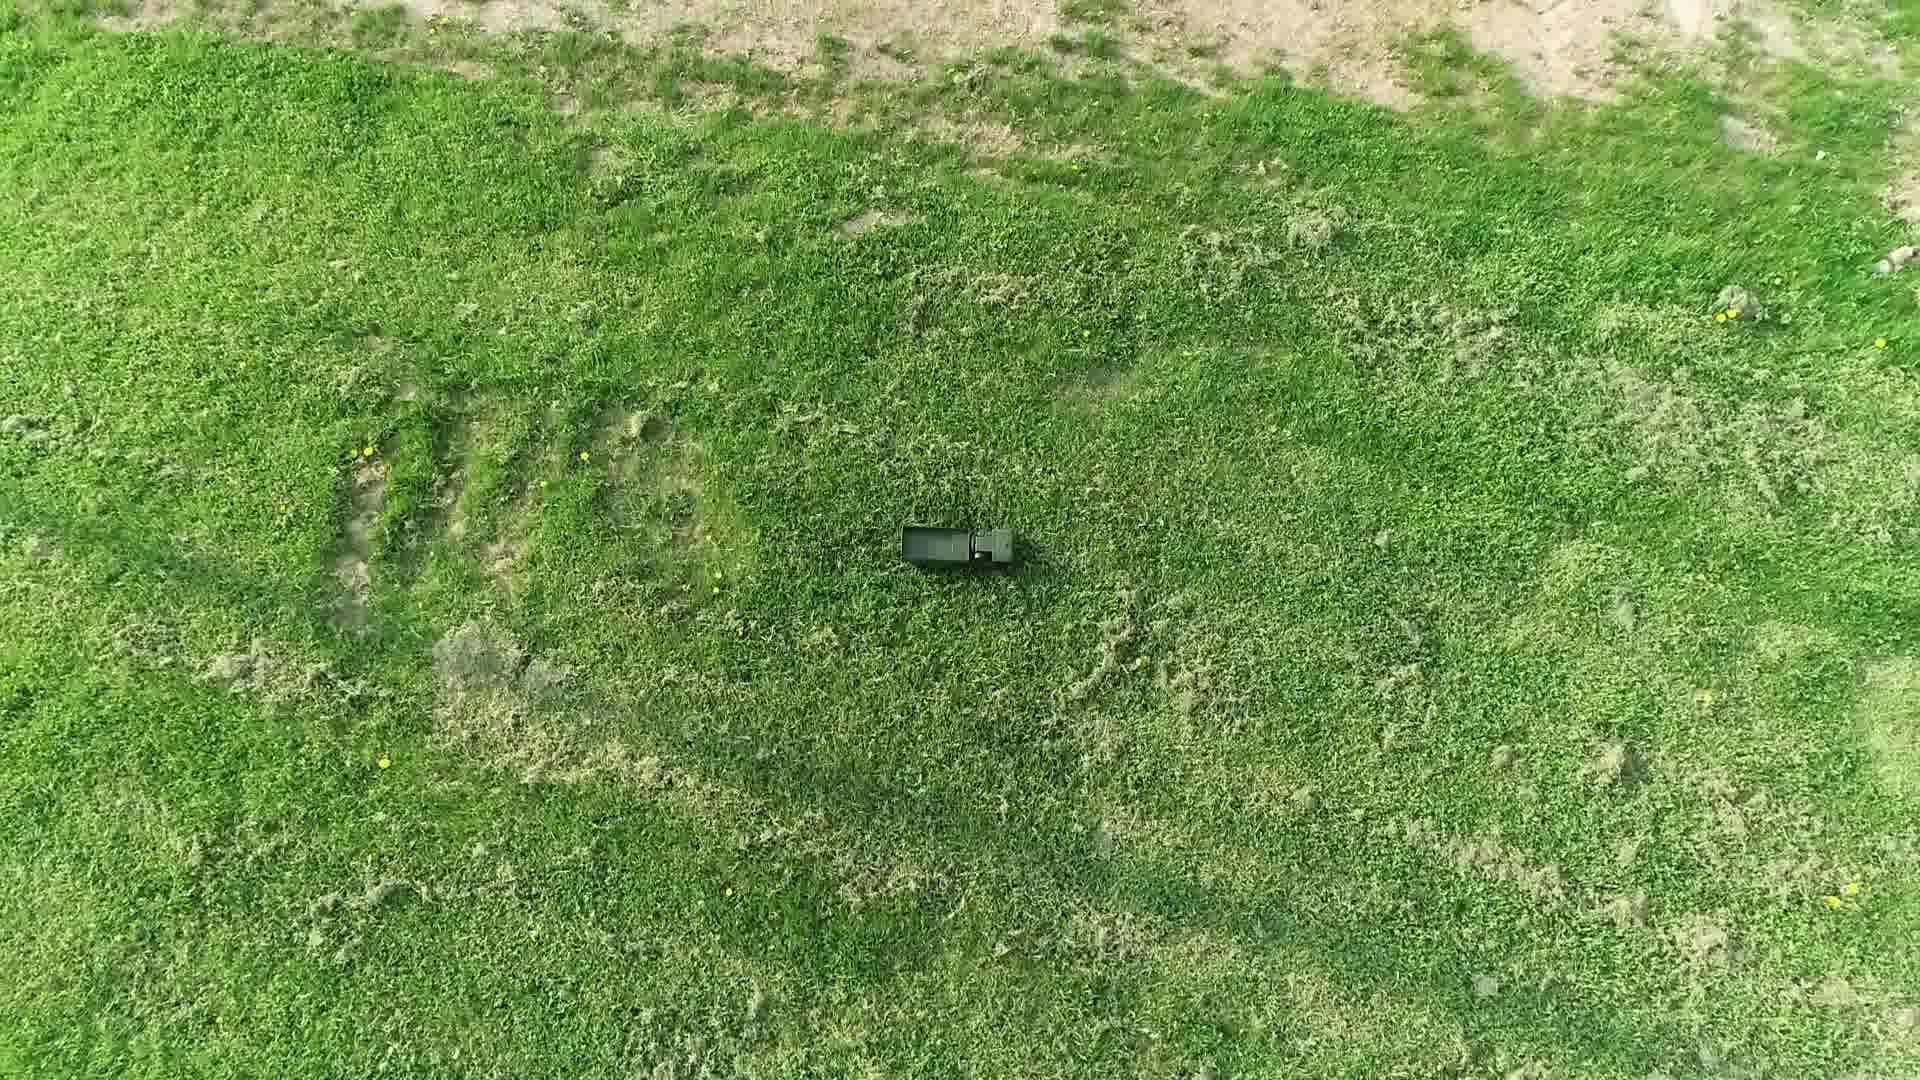transporter9: (894, 517, 1027, 576)
